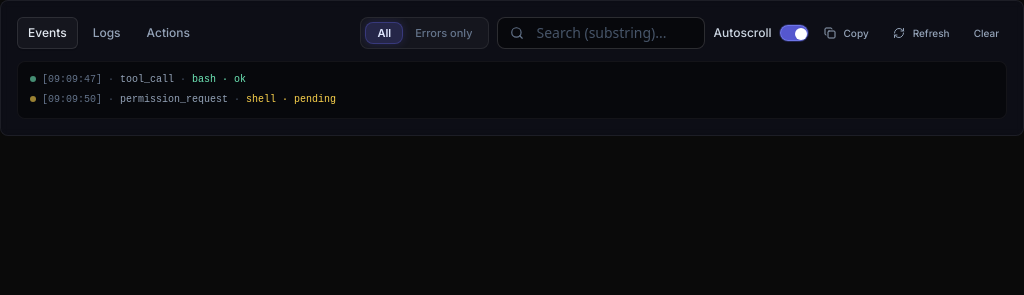
Test: DevboxConsole tabs › renders events by default and does not fetch logs until the tab opens
The image size is (1024, 295).
What coordinates should you click on to do the following:
click the button with test id "devbox-console-tab-logs"
I would click on:
 (107, 33)
Its box is [82,17,132,49].
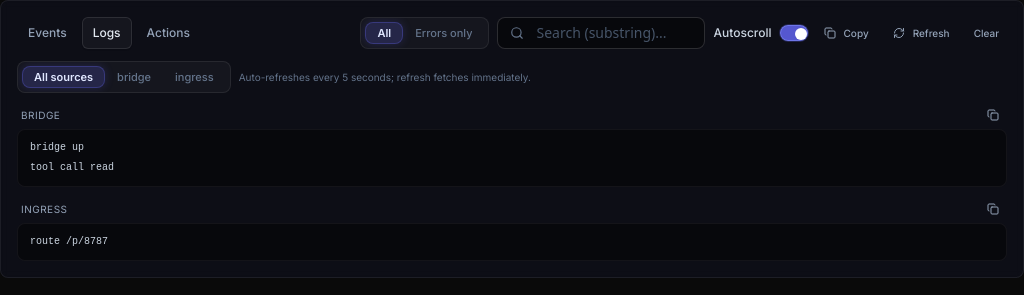
Expected: the element with test id "devbox-logs-source-bridge" is shown, [17,129,1007,187]
Expected: the element with test id "devbox-logs-source-bridge" shows "bridge up", [30,142,84,153]
